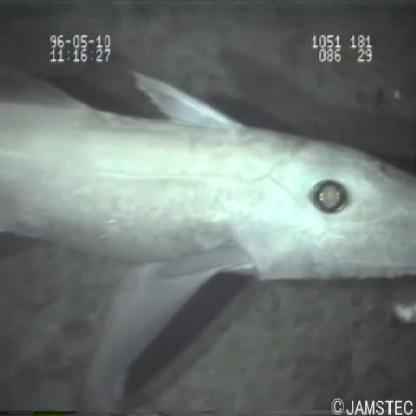Bio: (1, 62, 416, 374)
